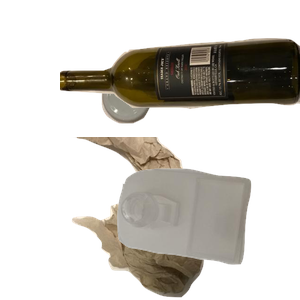glass: (60, 36, 300, 147)
metal: (99, 68, 244, 184)
plastic: (115, 166, 300, 300)
trash: (66, 137, 263, 300)
